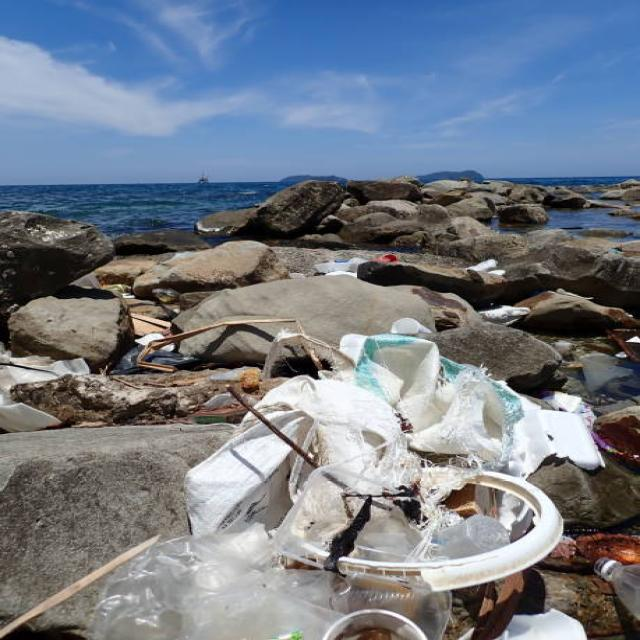plastic: (254, 314, 584, 578)
